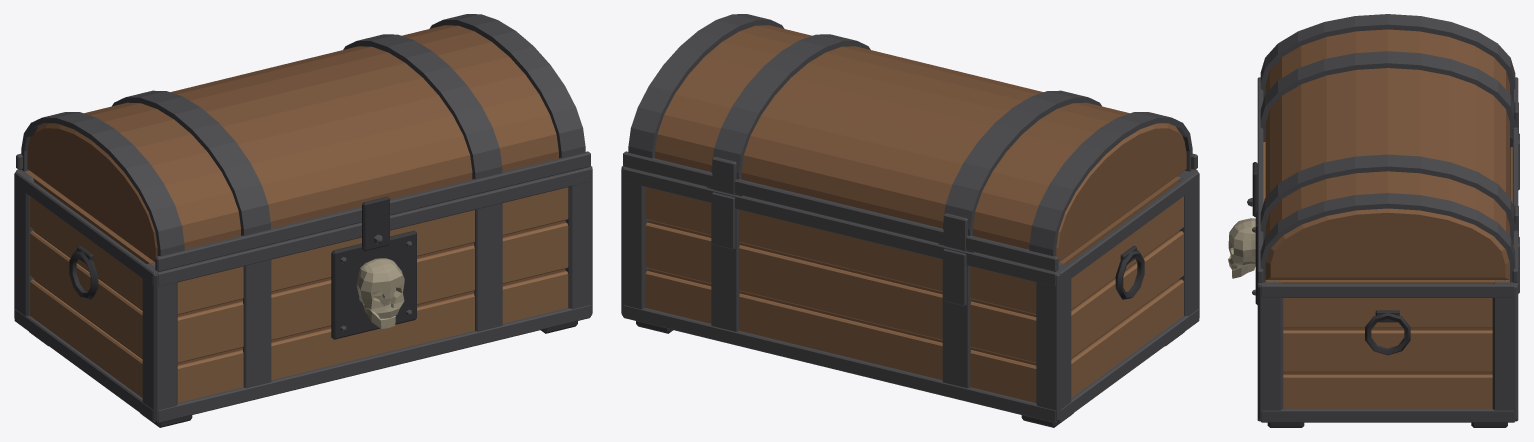
File: chest_closed.glb
3 renders of one model, left to right at view 1: azimuth 30°, elevation 25°; view 2: azimuth 150°, elevation 25°; view 3: azimuth 270°, elevation 25°, orthographic. The views are drawn at different scales.
Visible parts, largest first — view 1: chest_closed; view 2: chest_closed; view 3: chest_closed.
Part boxes in pixels (<box>): chest_closed: <box>14,14,592,427</box>; chest_closed: <box>621,14,1199,427</box>; chest_closed: <box>1228,14,1519,427</box>.
Bounding box in the file's own units: 1.16 × 0.613 × 0.7163.
